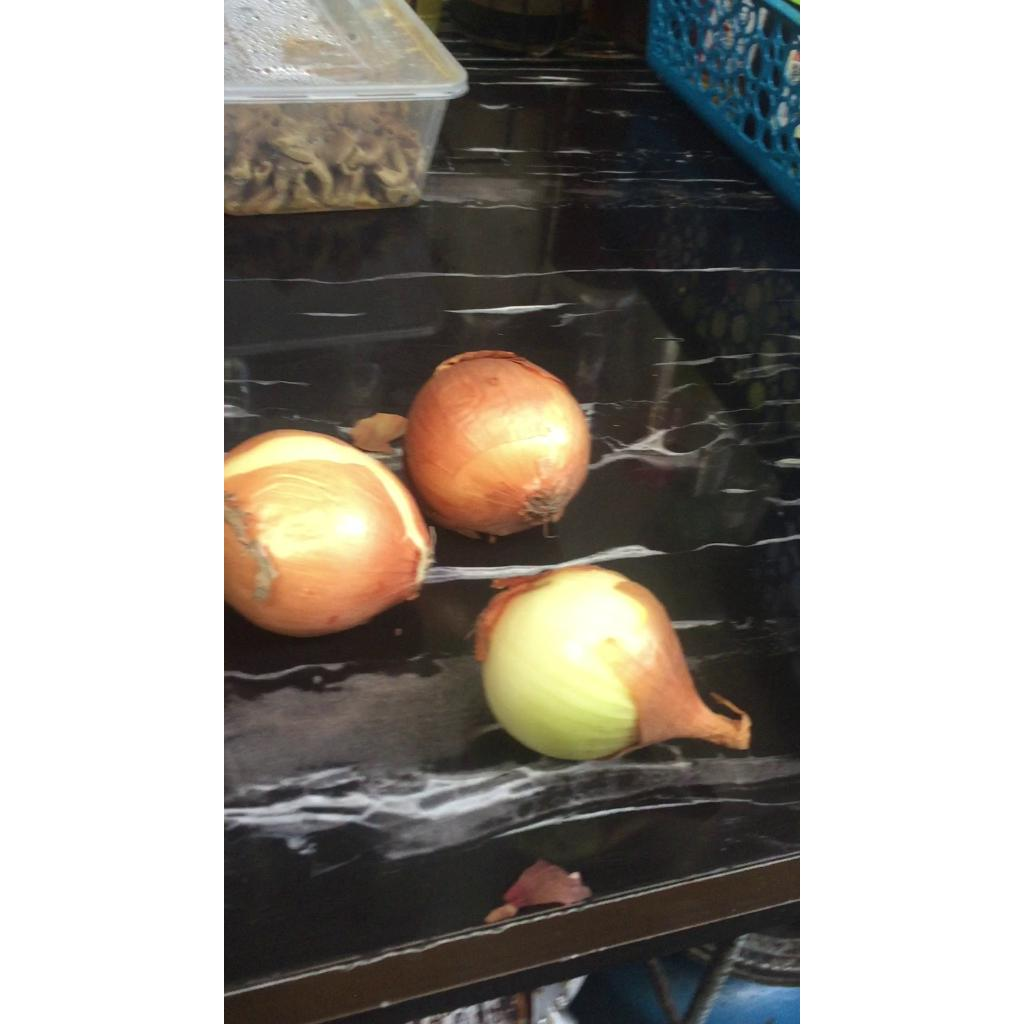Onion: (475, 567, 750, 761), (225, 429, 433, 637), (404, 350, 590, 536)
